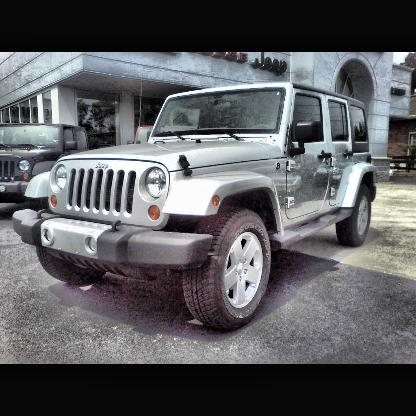Jeep Wrangler SUV 2012: (9, 76, 368, 331)
